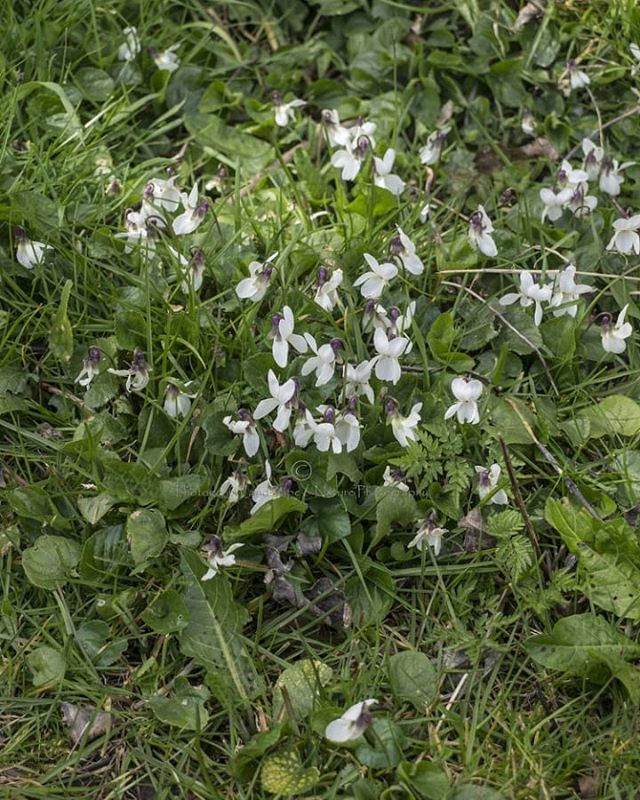flowers: (31, 48, 640, 636)
